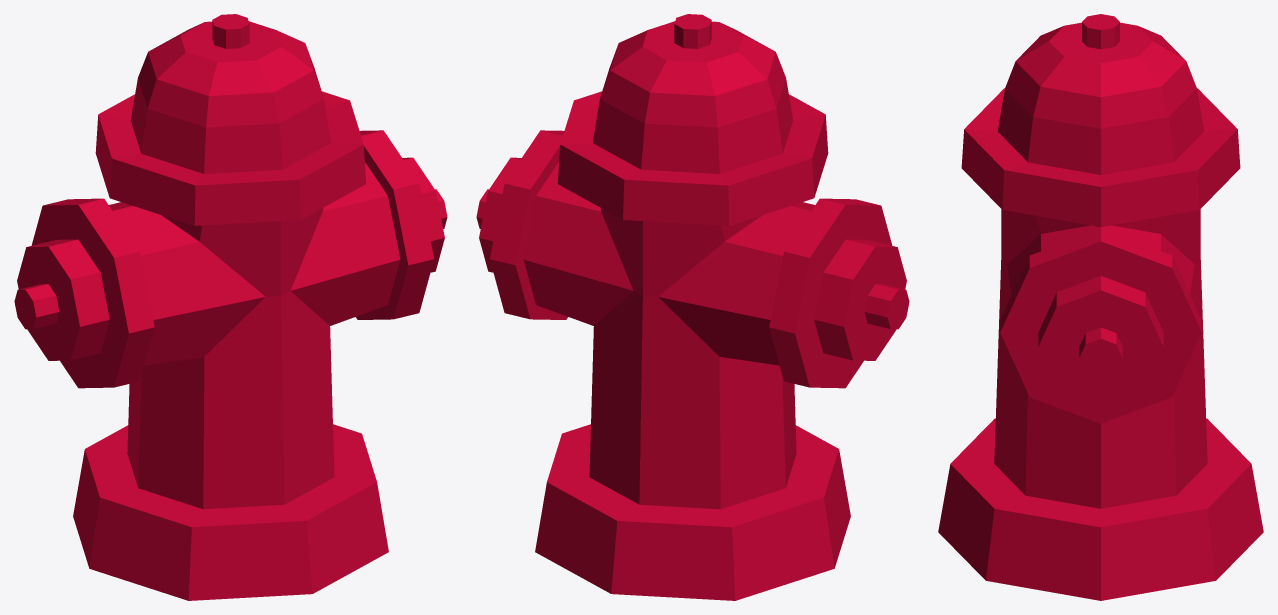
Rendered from FireHydrant 1.fbx.
3 renders of one model, left to right at view 1: azimuth 30°, elevation 25°; view 2: azimuth 150°, elevation 25°; view 3: azimuth 270°, elevation 25°, orthographic.
Visible parts, largest first — view 1: Circle; view 2: Circle; view 3: Circle.
Part boxes in pixels (box(x1,y1,x2,y2)): Circle: box(14, 14, 447, 600); Circle: box(476, 14, 909, 600); Circle: box(938, 14, 1263, 600).
Size of the model in its own units: 290 by 346 by 200.
